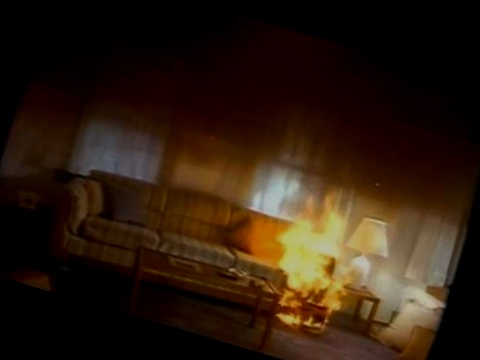fire: (249, 187, 382, 354)
smoke: (15, 0, 333, 185)
